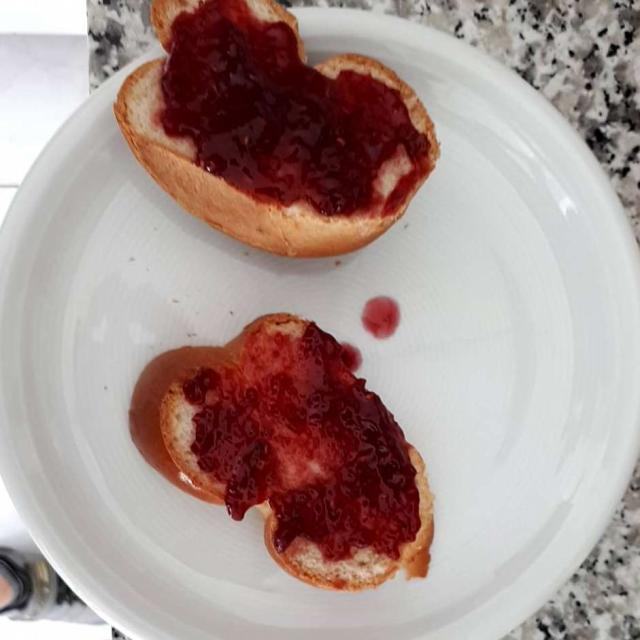braided-white-loaf: (108, 13, 435, 582)
jam: (167, 10, 414, 568)
